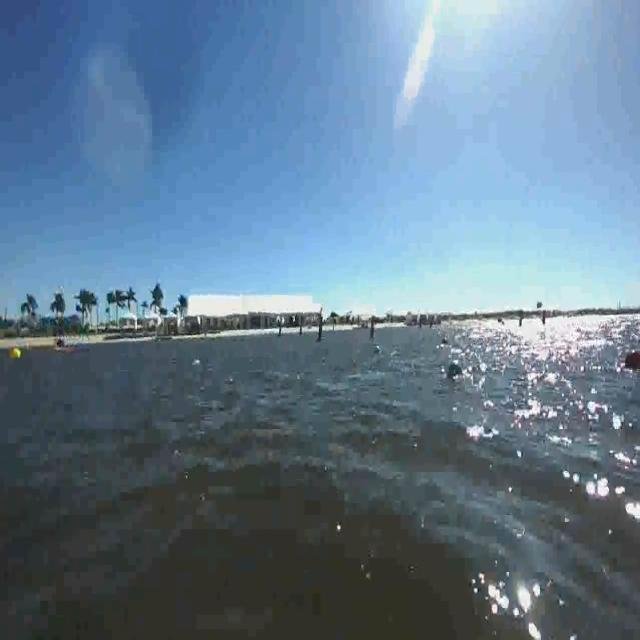yellow-buoy: (12, 347, 21, 360)
